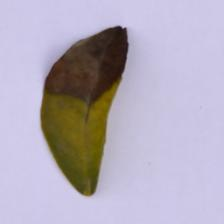black spot: (34, 22, 152, 106)
